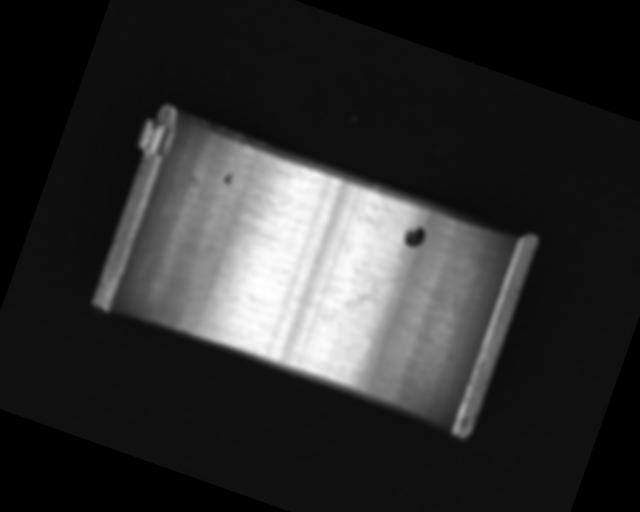blot: (339, 260, 405, 329), (400, 221, 428, 251)
bruise: (221, 170, 236, 188)
nick: (341, 335, 371, 383)
